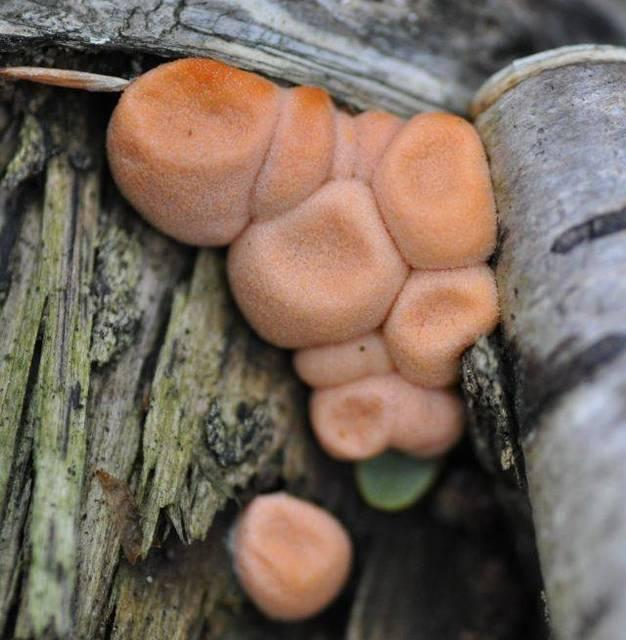Non-edible Mushroom: (0, 41, 625, 636), (101, 54, 503, 479), (463, 41, 625, 639), (226, 490, 354, 621)
